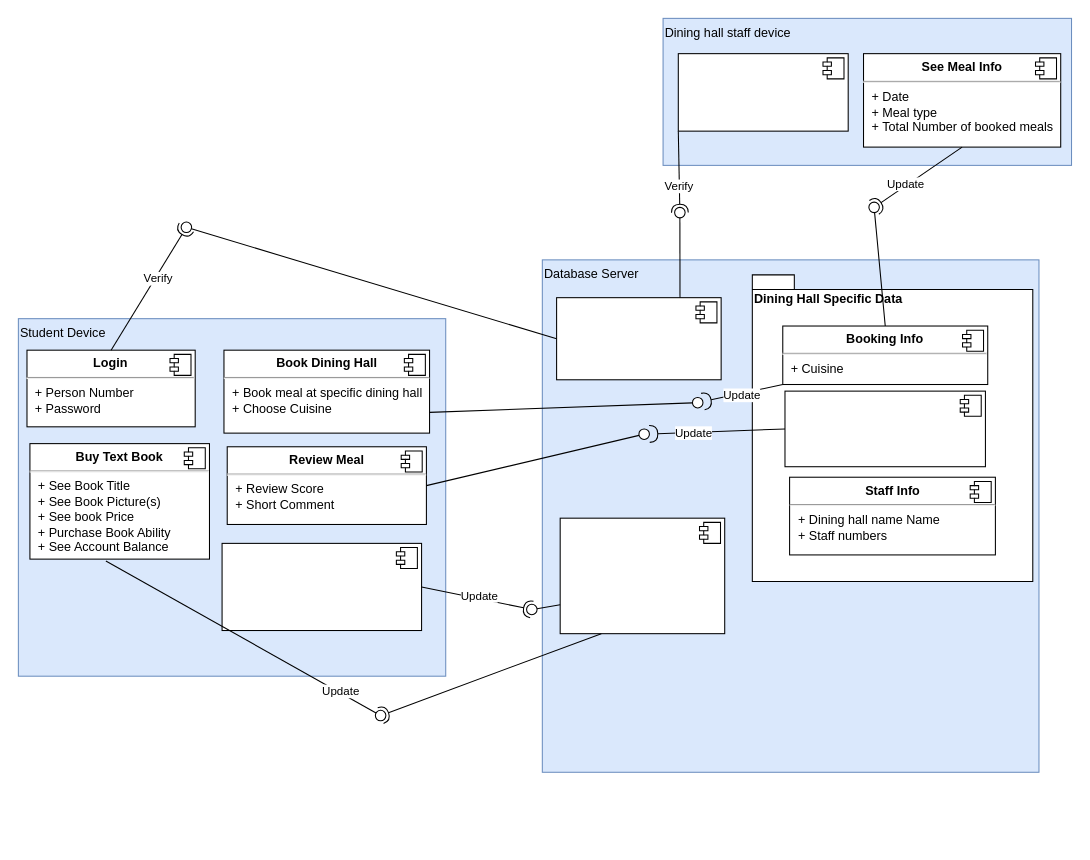
Some shapes in this 1090 by 860 pixel diagram are drawn without their labels. Each missing label, with the box of its shape:
Book Data + Tile + Picture(s) + Price + Seller + User Account Balnce: (559, 517, 725, 634)
Login + Person Number: Number + Password: String: (677, 53, 848, 131)
Review Info + Review Score + Comment: (784, 390, 985, 467)
Sell Text Book + Write Book Title + Upload Book Picture(s) + Set book Price: (221, 542, 422, 631)
Verify Login + Person Number + Password: (556, 297, 721, 380)
